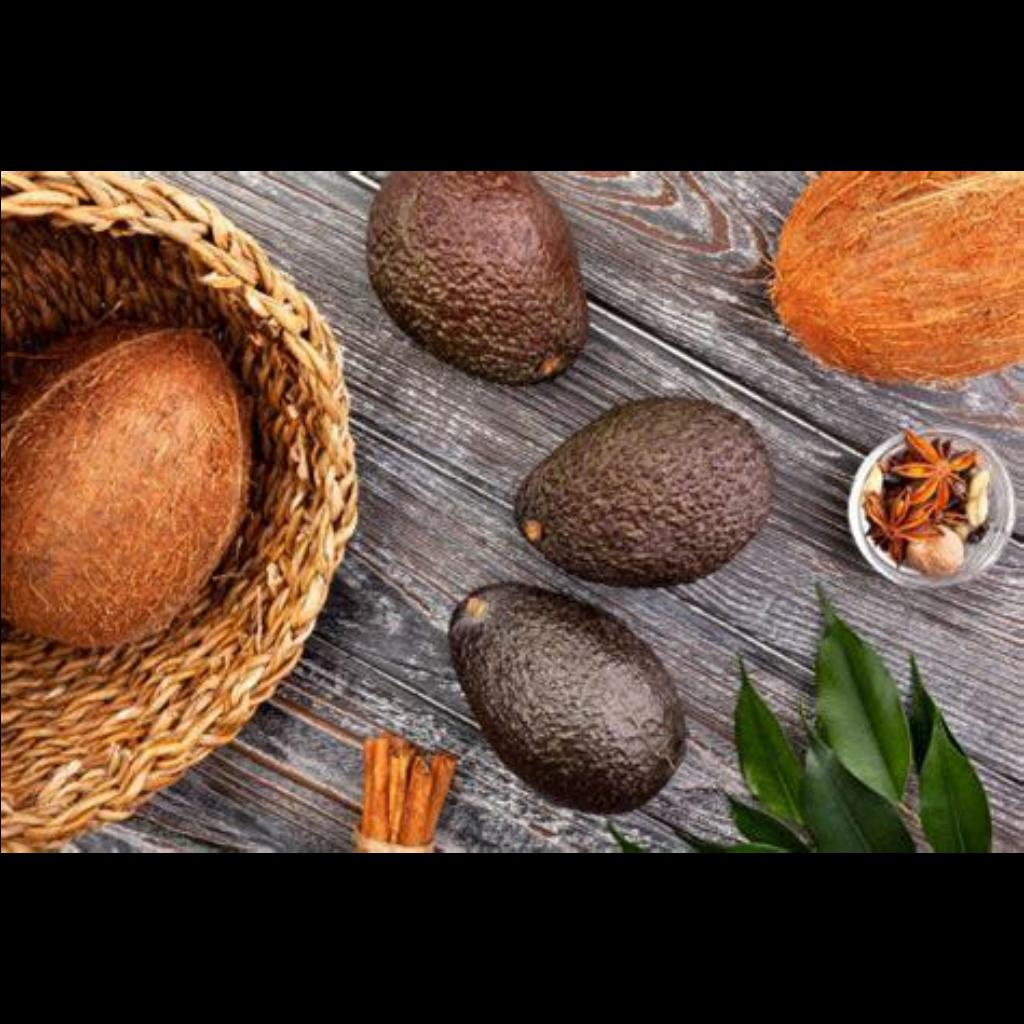antracnosis_fruto: (428, 570, 702, 818)
